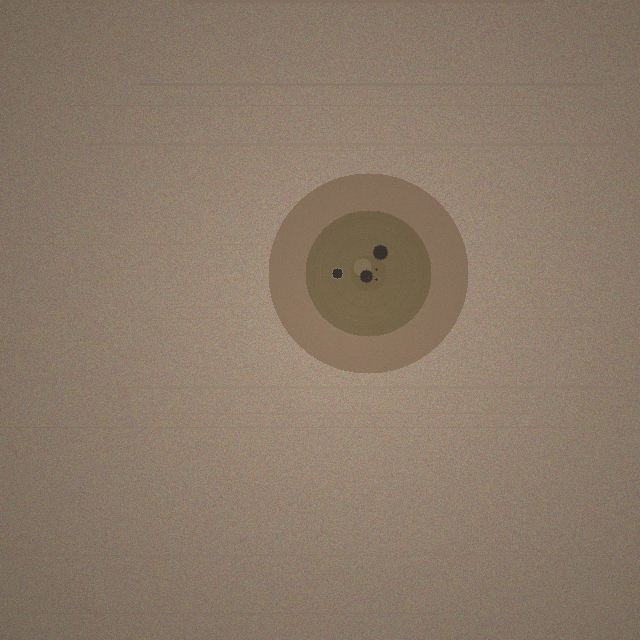shrinkage: (268, 173, 468, 373)
